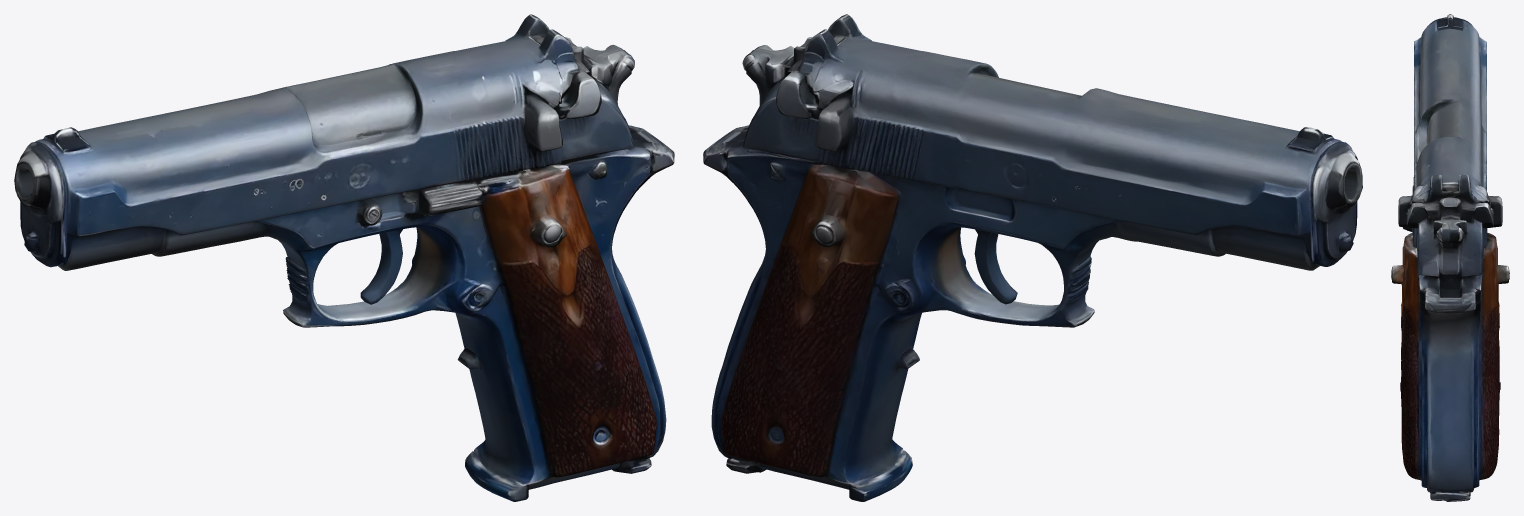
The model's file is rn_iron45.glb.
3 views of the same model, side by side, from view 1: azimuth 30°, elevation 25°; view 2: azimuth 150°, elevation 25°; view 3: azimuth 270°, elevation 25° (orthographic). The views are drawn at different scales.
Visible parts, largest first — view 1: tripo_node_b4a1d149-4fe8-4c53-8d6e-ed5c0b3336ce; view 2: tripo_node_b4a1d149-4fe8-4c53-8d6e-ed5c0b3336ce; view 3: tripo_node_b4a1d149-4fe8-4c53-8d6e-ed5c0b3336ce.
Part boxes in pixels (x1=…): tripo_node_b4a1d149-4fe8-4c53-8d6e-ed5c0b3336ce: x1=14, y1=14, x2=674, y2=501; tripo_node_b4a1d149-4fe8-4c53-8d6e-ed5c0b3336ce: x1=703, y1=14, x2=1362, y2=501; tripo_node_b4a1d149-4fe8-4c53-8d6e-ed5c0b3336ce: x1=1391, y1=14, x2=1509, y2=501.
Bounding box in the file's own units: 0.9803 × 0.6876 × 0.2419.
1 material, 1 textured.
